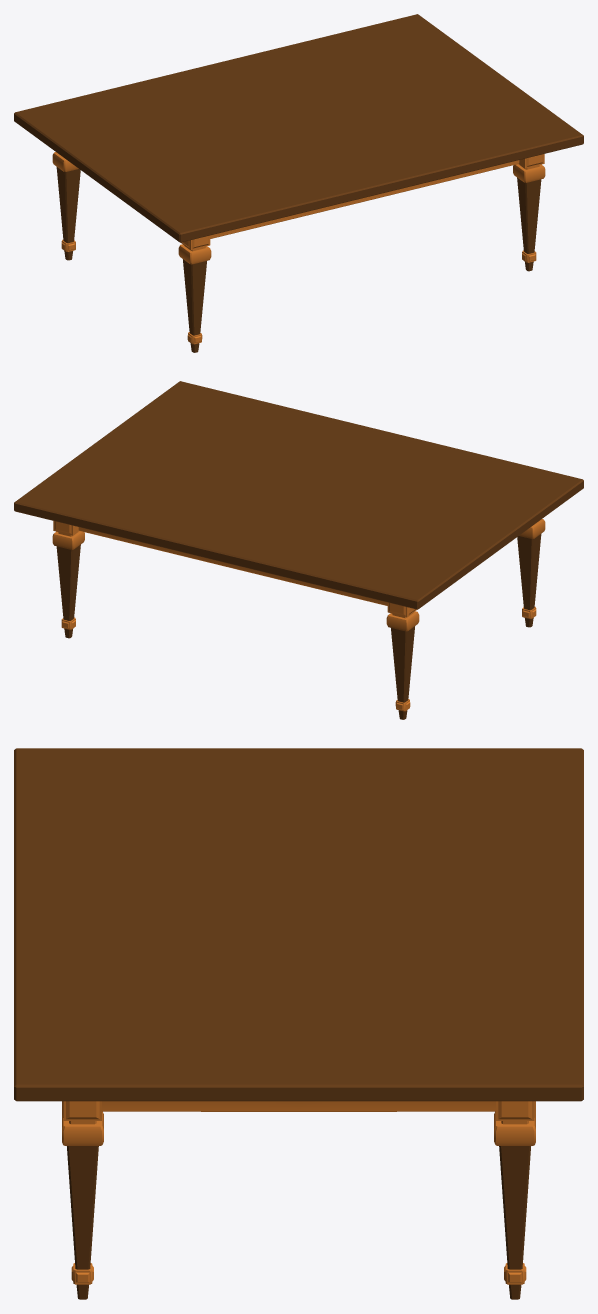
File: SM_Table.fbx
3 renders of one model, top to bottom at view 1: azimuth 30°, elevation 25°; view 2: azimuth 150°, elevation 25°; view 3: azimuth 270°, elevation 25°, orthographic. The views are drawn at different scales.
Visible parts, largest first — view 1: SM_Table; view 2: SM_Table; view 3: SM_Table.
Part boxes in pixels (left/top/right/bottom): SM_Table: left=14, top=14, right=583, bottom=352; SM_Table: left=14, top=381, right=583, bottom=719; SM_Table: left=14, top=748, right=583, bottom=1299.
Bounding box in the file's own units: 2.12 × 0.7038 × 1.51.
